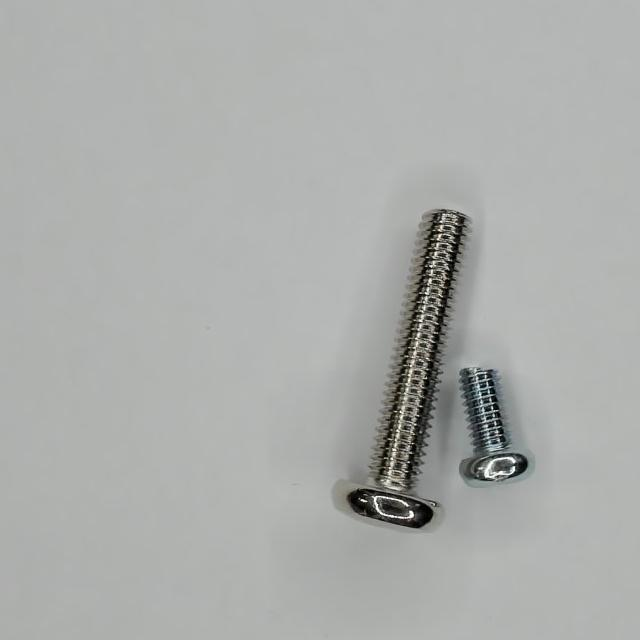Screw: (336, 209, 470, 530), (461, 368, 529, 482)
